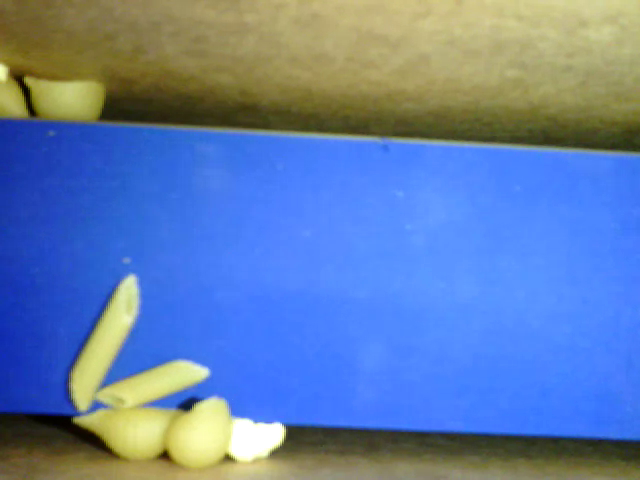penne: (64, 274, 140, 414), (93, 357, 211, 412)
shell: (71, 403, 186, 467), (164, 396, 234, 472), (23, 75, 107, 123)
